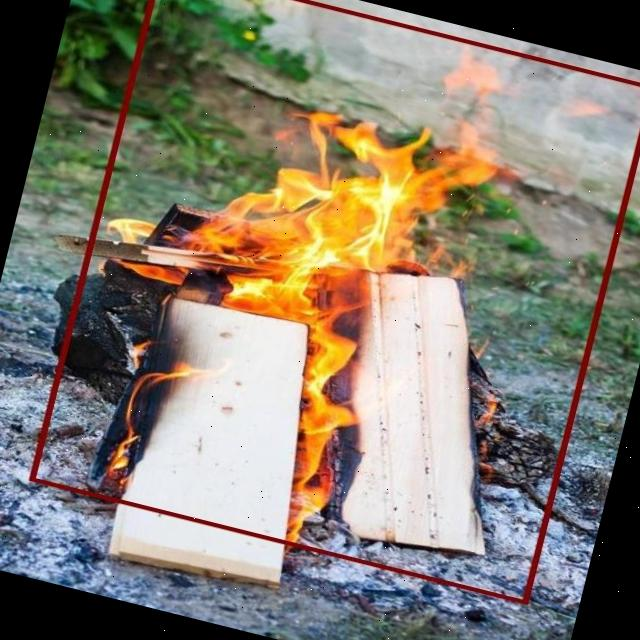fire: (27, 0, 640, 603)
